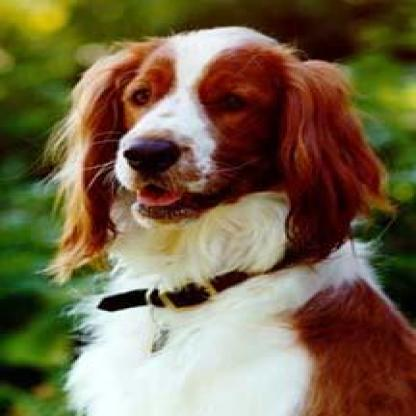Welsh_springer_spaniel: (50, 26, 412, 413)
